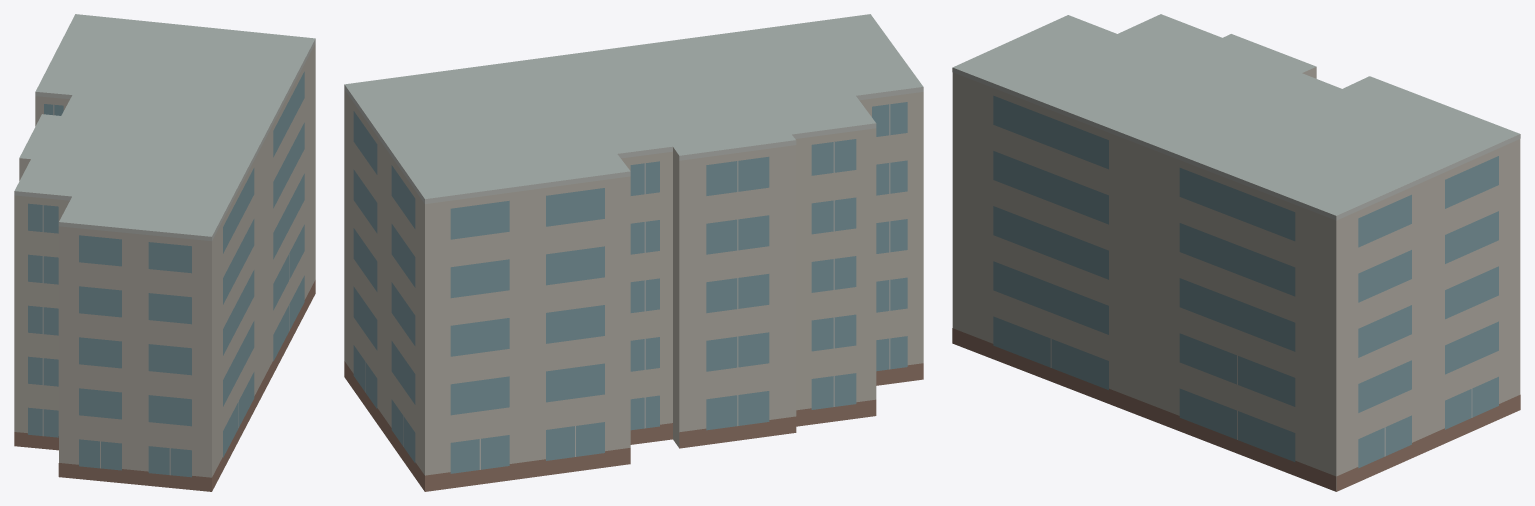
File: survey-upis-32526417.glb
3 views of the same model, side by side, from view 1: azimuth 30°, elevation 25°; view 2: azimuth 150°, elevation 25°; view 3: azimuth 270°, elevation 25° (orthographic). The views are drawn at different scales.
Parts seen in each view (by area): view 1: survey-upis-32526417.tmp; view 2: survey-upis-32526417.tmp; view 3: survey-upis-32526417.tmp.
Boxes of the visible parts, x1,y1,x2,y2 form: survey-upis-32526417.tmp: [14, 14, 315, 491]; survey-upis-32526417.tmp: [344, 14, 923, 491]; survey-upis-32526417.tmp: [952, 14, 1520, 491].
Size of the model in its own units: 22.28 by 14.2 by 26.49.
